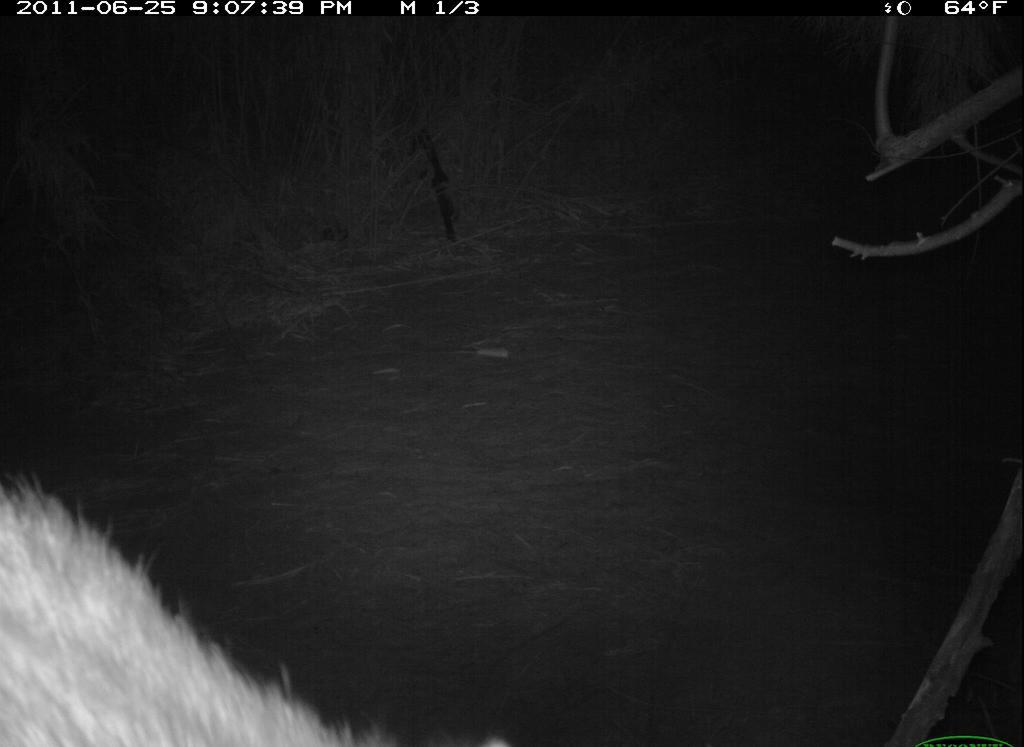raccoon: (3, 468, 447, 745)
